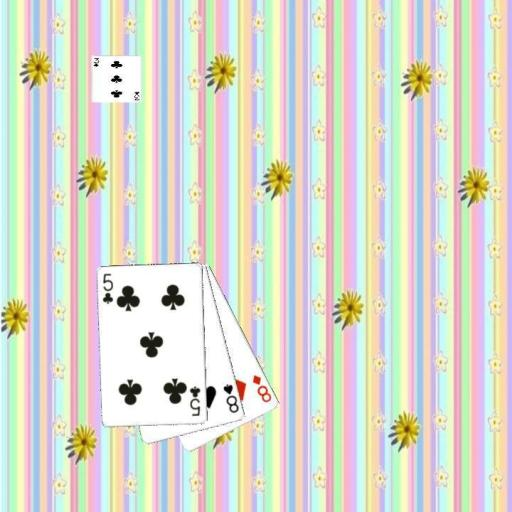card-corner: (250, 371, 273, 404), (220, 380, 240, 414), (100, 271, 115, 306), (187, 384, 202, 418)
